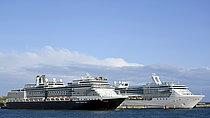Ship: (3, 72, 131, 114), (110, 72, 209, 113)
